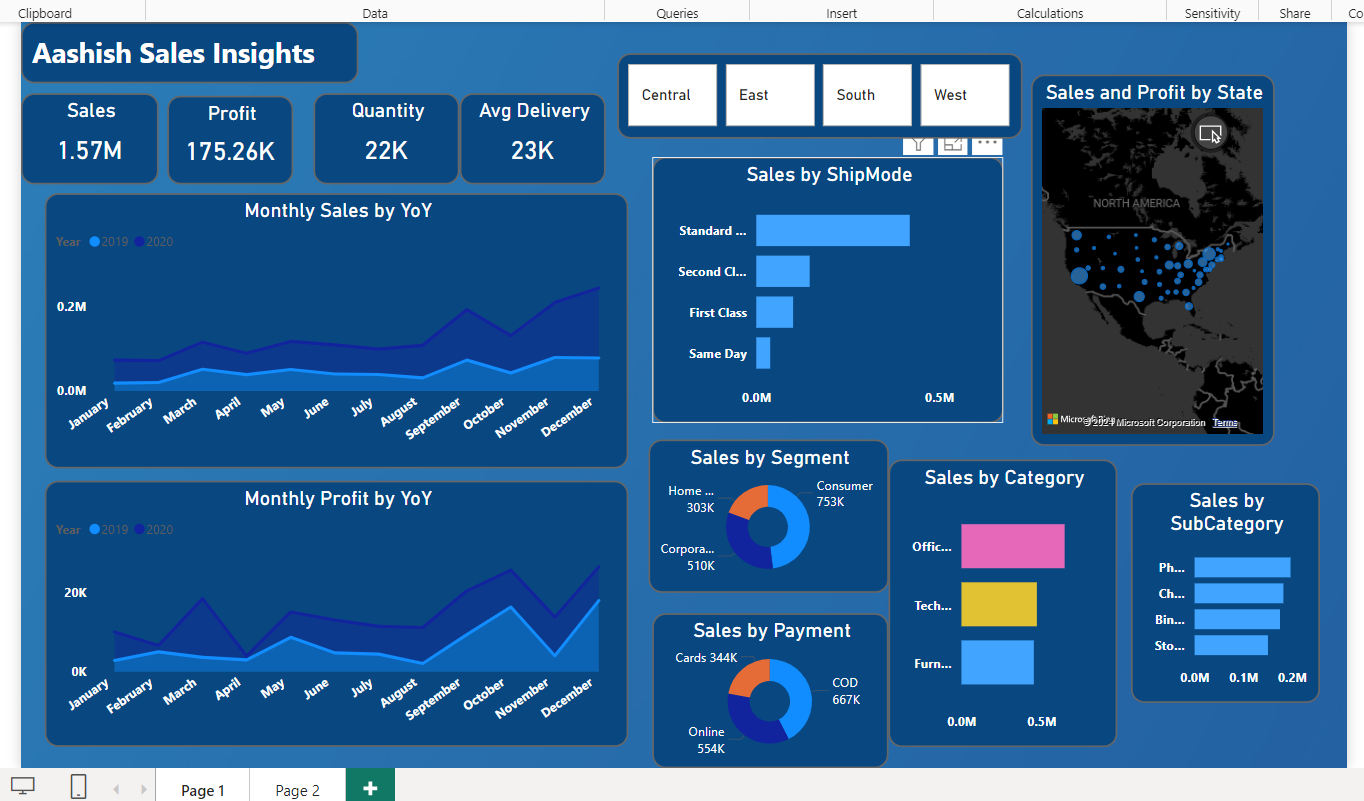

This screenshot's page, from the dashboard's own definition file:
{"tool":"powerbi","page":{"name":"Page 1","canvas":[1280,720],"ordinal":0},"visuals":[{"type":"clusteredBarChart","title":"Sales by Category","fields":{"Category":["SuperStore_Sales_Dataset.Category"],"Y":["SuperStore_Sales_Dataset.Sales"]},"box":[837.3,422.3,220.8,277.5],"z":0},{"type":"clusteredBarChart","title":"Sales by SubCategory","fields":{"Y":["SuperStore_Sales_Dataset.Sales"],"Category":["SuperStore_Sales_Dataset.Sub-Category"]},"box":[1071.3,445.2,182.2,212.3],"z":1000},{"type":"clusteredBarChart","title":"Sales by ShipMode","fields":{"Y":["SuperStore_Sales_Dataset.Sales"],"Category":["SuperStore_Sales_Dataset.Ship Mode"]},"box":[609.3,130.3,339,257],"z":2000},{"type":"stackedAreaChart","title":"Monthly Sales by YoY","fields":{"Y":["SuperStore_Sales_Dataset.Sales"],"Category":["SuperStore_Sales_Dataset.Order Date.Variation.Date Hierarchy.Month"],"Series":["SuperStore_Sales_Dataset.Order Date.Variation.Date Hierarchy.Year"]},"box":[22.9,165.3,563.4,265.4],"z":3000},{"type":"stackedAreaChart","title":"Monthly Profit by YoY","fields":{"Category":["SuperStore_Sales_Dataset.Order Date.Variation.Date Hierarchy.Month"],"Series":["SuperStore_Sales_Dataset.Order Date.Variation.Date Hierarchy.Year"],"Y":["SuperStore_Sales_Dataset.Profit"]},"box":[22.9,442.8,563.4,257],"z":4000},{"type":"map","title":"Sales and  Profit by State","fields":{"Category":["SuperStore_Sales_Dataset.State"],"Size":["SuperStore_Sales_Dataset.Sales"]},"box":[974.3,51,235.4,358.3],"z":5000},{"type":"donutChart","title":"Sales by Segment","fields":{"Category":["SuperStore_Sales_Dataset.Segment"],"Y":["SuperStore_Sales_Dataset.Sales"]},"box":[605.6,403,231.6,148.4],"z":6000},{"type":"donutChart","title":"Sales by Payment","fields":{"Y":["SuperStore_Sales_Dataset.Sales"],"Category":["SuperStore_Sales_Dataset.Payment Mode"]},"box":[609.3,570.6,228,149.6],"z":7000},{"type":"textbox","box":[0,0,325.7,59.1],"z":8000},{"type":"card","title":"Sales","fields":{"Values":["SuperStore_Sales_Dataset.Sales"]},"box":[0,68.8,132.7,88.1],"z":9000},{"type":"card","title":"Profit","fields":{"Values":["SuperStore_Sales_Dataset.Profit"]},"box":[141.2,71.2,121.9,85.7],"z":10000},{"type":"card","title":"Quantity","fields":{"Values":["SuperStore_Sales_Dataset.Quantity"]},"box":[282.3,68.8,141.2,88.1],"z":11000},{"type":"advancedSlicerVisual","fields":{"Values":["SuperStore_Sales_Dataset.Region"]},"box":[575.5,30.2,390.9,82],"z":12000},{"type":"card","title":"Avg Delivery","fields":{"Values":["SuperStore_Sales_Dataset.AvgDelivery"]},"box":[423.5,68.8,141.2,88.1],"z":13000}]}

Visuals, with their boxes on the page's 1280x720 design canvas (x1, y1, x2, y2). These are canvas units, not pixel positions in the 1364x801 screenshot, which may show the page scaled, cropped or inside an application window:
"Sales by Category" clusteredBarChart: [837, 422, 1058, 700]
"Sales by SubCategory" clusteredBarChart: [1071, 445, 1254, 658]
"Sales by ShipMode" clusteredBarChart: [609, 130, 948, 387]
"Monthly Sales by YoY" stackedAreaChart: [23, 165, 586, 431]
"Monthly Profit by YoY" stackedAreaChart: [23, 443, 586, 700]
"Sales and  Profit by State" map: [974, 51, 1210, 409]
"Sales by Segment" donutChart: [606, 403, 837, 551]
"Sales by Payment" donutChart: [609, 571, 837, 720]
textbox: [0, 0, 326, 59]
"Sales" card: [0, 69, 133, 157]
"Profit" card: [141, 71, 263, 157]
"Quantity" card: [282, 69, 424, 157]
advancedSlicerVisual - SuperStore_Sales_Dataset.Region: [576, 30, 966, 112]
"Avg Delivery" card: [424, 69, 565, 157]
